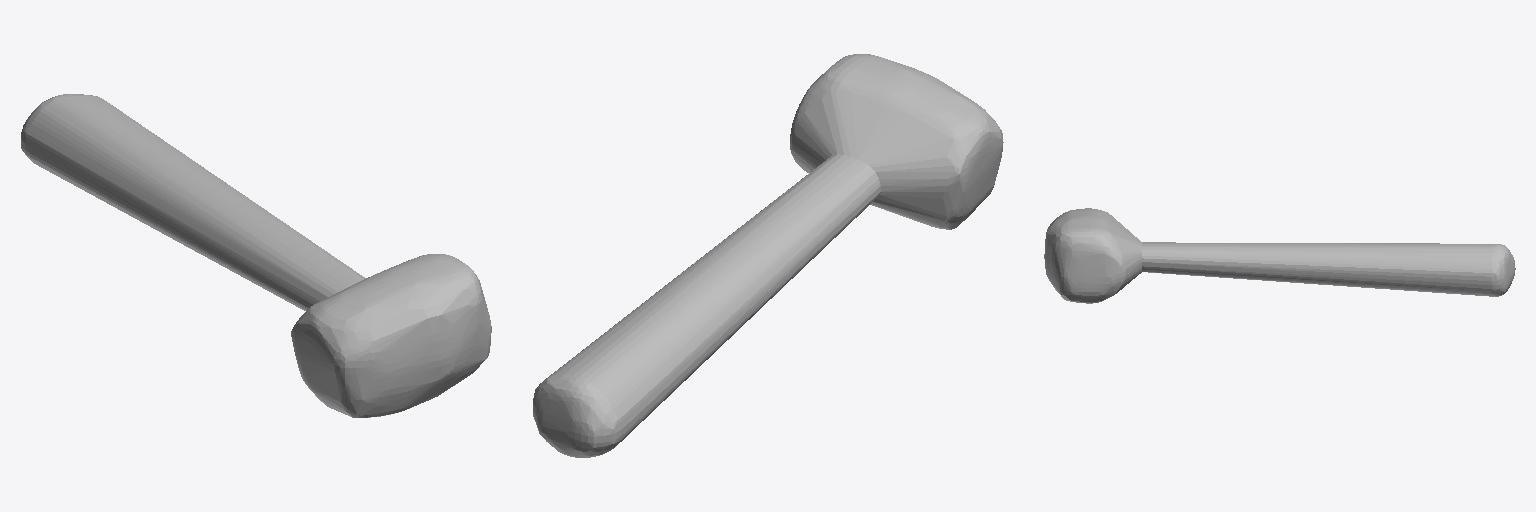
URDF robot description (root):
<robot name="root">
  <link name="link_coacd_convex_piece_0">
    <inertial>
      <origin xyz="0 0 0" rpy="0 0 0"/>
      <inertia ixx="6.52E-07" ixy="1.43E-08" ixz="-1.40E-09" iyy="2.08E-08" iyz="3.26E-08" izz="6.55E-07"/>
    </inertial>
    <visual>
      <origin xyz="0 0 0" rpy="0 0 0"/>
      <geometry>
        <mesh filename="coacd_convex_piece_0.obj" scale="1.0000E+00 1.0000E+00 1.0000E+00"/>
      </geometry>
      <material name="">
        <color rgba="7.50E-01 7.50E-01 7.50E-01 1"/>
      </material>
    </visual>
    <collision>
      <origin xyz="0 0 0" rpy="0 0 0"/>
      <geometry>
        <mesh filename="coacd_convex_piece_0.obj" scale="1.0000E+00 1.0000E+00 1.0000E+00"/>
      </geometry>
    </collision>
  </link>
  <link name="link_coacd_convex_piece_1">
    <inertial>
      <origin xyz="0 0 0" rpy="0 0 0"/>
      <inertia ixx="5.79E-08" ixy="-1.19E-09" ixz="-6.88E-09" iyy="8.53E-08" iyz="3.01E-10" izz="9.13E-08"/>
    </inertial>
    <visual>
      <origin xyz="0 0 0" rpy="0 0 0"/>
      <geometry>
        <mesh filename="coacd_convex_piece_1.obj" scale="1.0000E+00 1.0000E+00 1.0000E+00"/>
      </geometry>
      <material name="">
        <color rgba="7.50E-01 7.50E-01 7.50E-01 1"/>
      </material>
    </visual>
    <collision>
      <origin xyz="0 0 0" rpy="0 0 0"/>
      <geometry>
        <mesh filename="coacd_convex_piece_1.obj" scale="1.0000E+00 1.0000E+00 1.0000E+00"/>
      </geometry>
    </collision>
  </link>
  <joint name="link_coacd_convex_piece_1_joint" type="fixed">
    <origin xyz="0 0 0" rpy="0 0 0"/>
    <parent link="link_coacd_convex_piece_0"/>
    <child link="link_coacd_convex_piece_1"/>
  </joint>
</robot>

--- Render facts (derived) ---
The picture shows the robot from 3 angles, left to right: view 1: azimuth 30°, elevation 25°; view 2: azimuth 150°, elevation 25°; view 3: azimuth 270°, elevation 25°; orthographic projection.
Robot: root — 2 links, 1 joints (1 fixed); root link link_coacd_convex_piece_0; default pose: every joint at zero.
Links seen in each view (by area): view 1: link_coacd_convex_piece_0, link_coacd_convex_piece_1; view 2: link_coacd_convex_piece_0, link_coacd_convex_piece_1; view 3: link_coacd_convex_piece_0, link_coacd_convex_piece_1.
Link boxes in pixels (x1,y1,x2,y2): link_coacd_convex_piece_0: (21,94,365,310); link_coacd_convex_piece_1: (291,254,491,417); link_coacd_convex_piece_0: (533,154,880,457); link_coacd_convex_piece_1: (790,54,1003,229); link_coacd_convex_piece_0: (1142,242,1515,296); link_coacd_convex_piece_1: (1044,208,1141,303).
Size in the robot's own frame: 0.0783 by 0.2964 by 0.0567 metres.
Meshes: 2 distinct files referenced, 2 mesh visuals loaded (2 OBJ).
